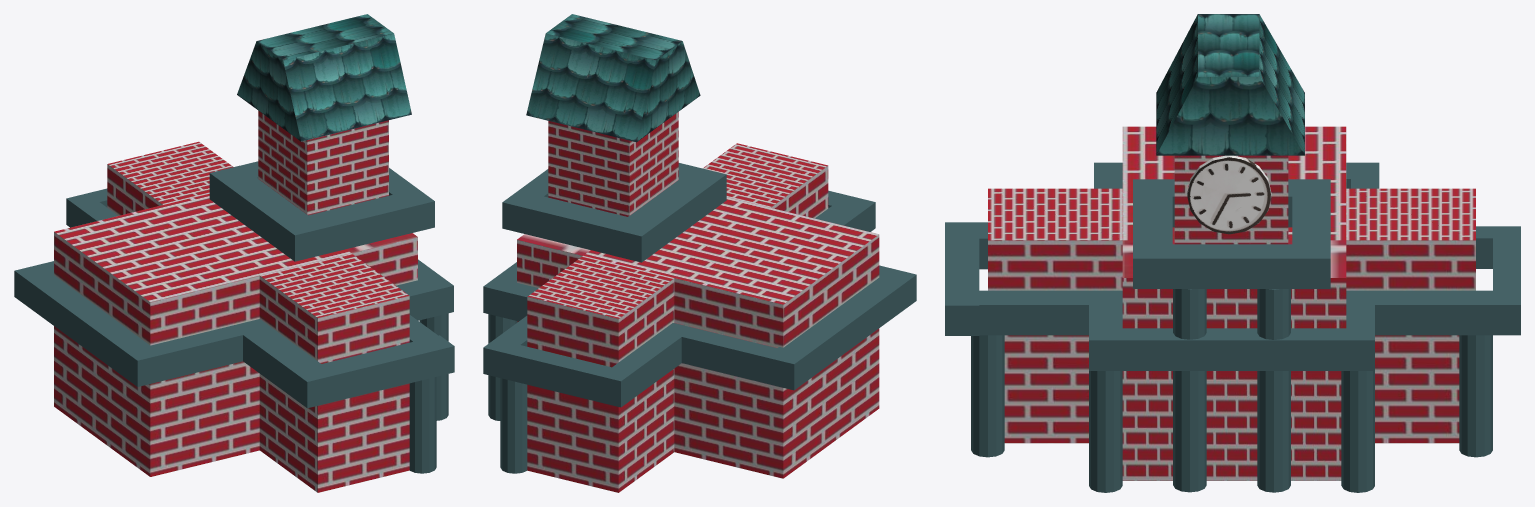
The model's file is GareCrado.fbx.
3 renders of one model, left to right at view 1: azimuth 30°, elevation 25°; view 2: azimuth 150°, elevation 25°; view 3: azimuth 270°, elevation 25°, orthographic. The views are drawn at different scales.
Parts seen in each view (by area): view 1: Cube.002, Cube.001, Cube.004, Cube.003, Cylinder.004, Cylinder; view 2: Cube.002, Cube.001, Cube.004, Cube.003, Cylinder.005, Cylinder.003; view 3: Cube.002, Cube.001, Cube.004, Cube.003, Cylinder.002, Cylinder.001, Cylinder.006, Cylinder.005, Cylinder.004, Cylinder, Cylinder.003.
Part boxes in pixels (<box>): Cube.002: <box>54,111,417,492</box>; Cube.001: <box>14,188,454,408</box>; Cube.004: <box>237,14,411,141</box>; Cube.003: <box>209,161,434,261</box>; Cylinder.004: <box>409,377,436,473</box>; Cylinder: <box>419,313,448,420</box>; Cube.002: <box>517,112,879,492</box>; Cube.001: <box>483,190,916,407</box>; Cube.004: <box>526,14,700,142</box>; Cube.003: <box>502,163,726,262</box>; Cylinder.005: <box>500,378,527,473</box>; Cylinder.003: <box>488,314,517,420</box>; Cube.002: <box>988,126,1475,480</box>; Cube.001: <box>945,162,1520,370</box>; Cube.004: <box>1156,14,1304,155</box>; Cube.003: <box>1133,179,1330,288</box>; Cylinder.002: <box>1257,289,1290,492</box>; Cylinder.001: <box>1173,289,1206,492</box>; Cylinder.006: <box>1187,155,1271,234</box>; Cylinder.005: <box>1459,335,1492,457</box>; Cylinder.004: <box>971,335,1004,457</box>; Cylinder: <box>1089,371,1122,492</box>; Cylinder.003: <box>1341,371,1374,492</box>.
Bounding box in the file's own units: 5549 × 5949 × 7595.
